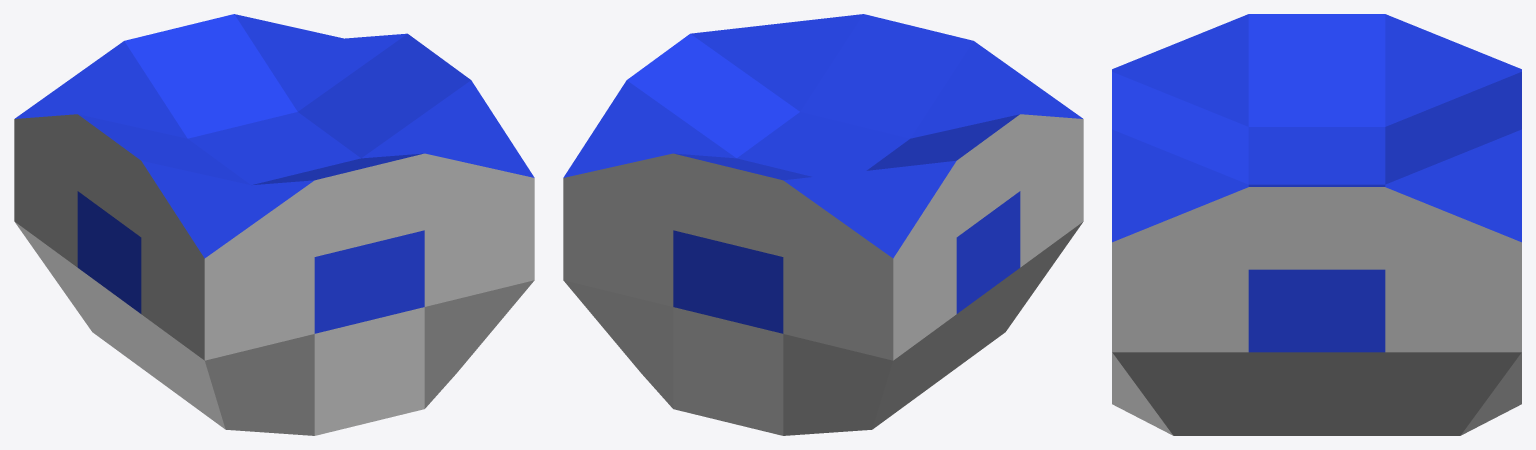
File: Health shard.fbx
3 views of the same model, side by side, from view 1: azimuth 30°, elevation 25°; view 2: azimuth 150°, elevation 25°; view 3: azimuth 270°, elevation 25° (orthographic). The views are drawn at different scales.
Parts seen in each view (by area): view 1: Health shard; view 2: Health shard; view 3: Health shard.
Boxes of the visible parts, x1,y1,x2,y2 form: Health shard: (14,14,534,435); Health shard: (563,14,1083,435); Health shard: (1112,14,1521,435).
Size of the model in its own units: 463 by 463 by 343.
